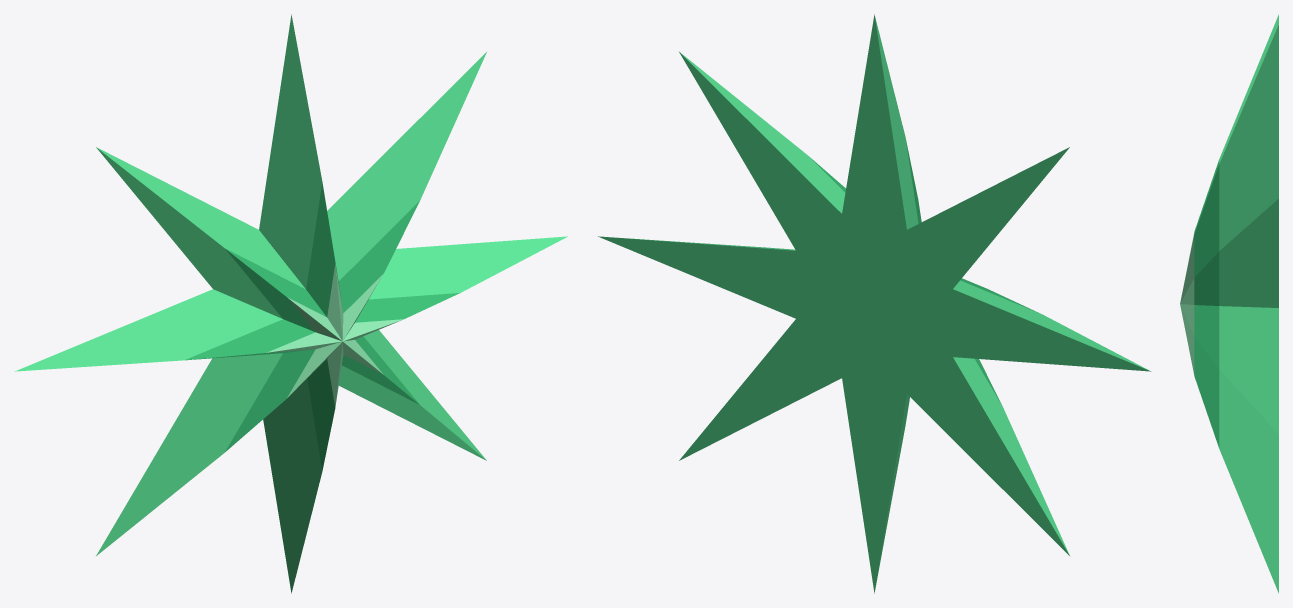
File: siryeon.fbx
The picture shows the model from 3 angles, left to right: view 1: azimuth 30°, elevation 25°; view 2: azimuth 150°, elevation 25°; view 3: azimuth 270°, elevation 25°; orthographic projection. The views are drawn at different scales.
Visible parts, largest first — view 1: 원뿔.001, 원뿔, 원뿔.002; view 2: 원뿔.001, 원뿔; view 3: 원뿔.001, 원뿔, 원뿔.002.
Part boxes in pixels (box(x1,y1,x2,y2)): 원뿔.001: box(15, 14, 567, 593); 원뿔: box(185, 182, 459, 470); 원뿔.002: box(266, 264, 403, 407); 원뿔.001: box(598, 14, 1150, 593); 원뿔: box(809, 138, 1040, 406); 원뿔.001: box(1219, 14, 1278, 593); 원뿔: box(1194, 159, 1219, 448); 원뿔.002: box(1180, 233, 1194, 374).
Size of the model in its own units: 200 by 200 by 32.04.
